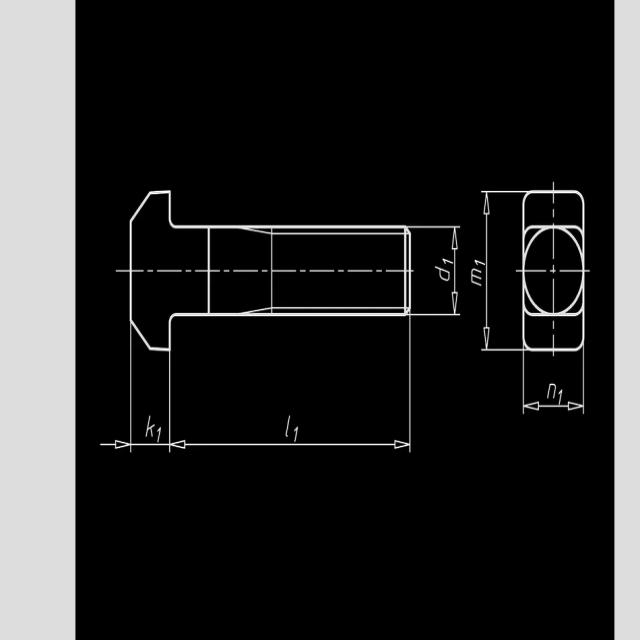marking_line: (175, 320, 415, 457), (100, 352, 415, 454), (166, 356, 412, 453), (478, 190, 522, 357), (411, 224, 463, 318), (98, 327, 133, 456), (519, 353, 585, 418)
numeric: (292, 424, 300, 444), (155, 426, 163, 444), (442, 257, 455, 267), (556, 389, 563, 405), (474, 259, 485, 268)
